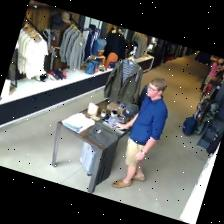person: (112, 78, 167, 187), (197, 55, 217, 92), (202, 57, 223, 91)
